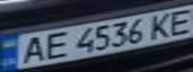3: (109, 19, 133, 48)
4: (72, 25, 96, 55)
5: (90, 21, 115, 53)
6: (124, 16, 151, 44)
A: (15, 34, 51, 65)
E: (36, 29, 72, 61), (160, 7, 193, 35)
K: (145, 10, 178, 39)
